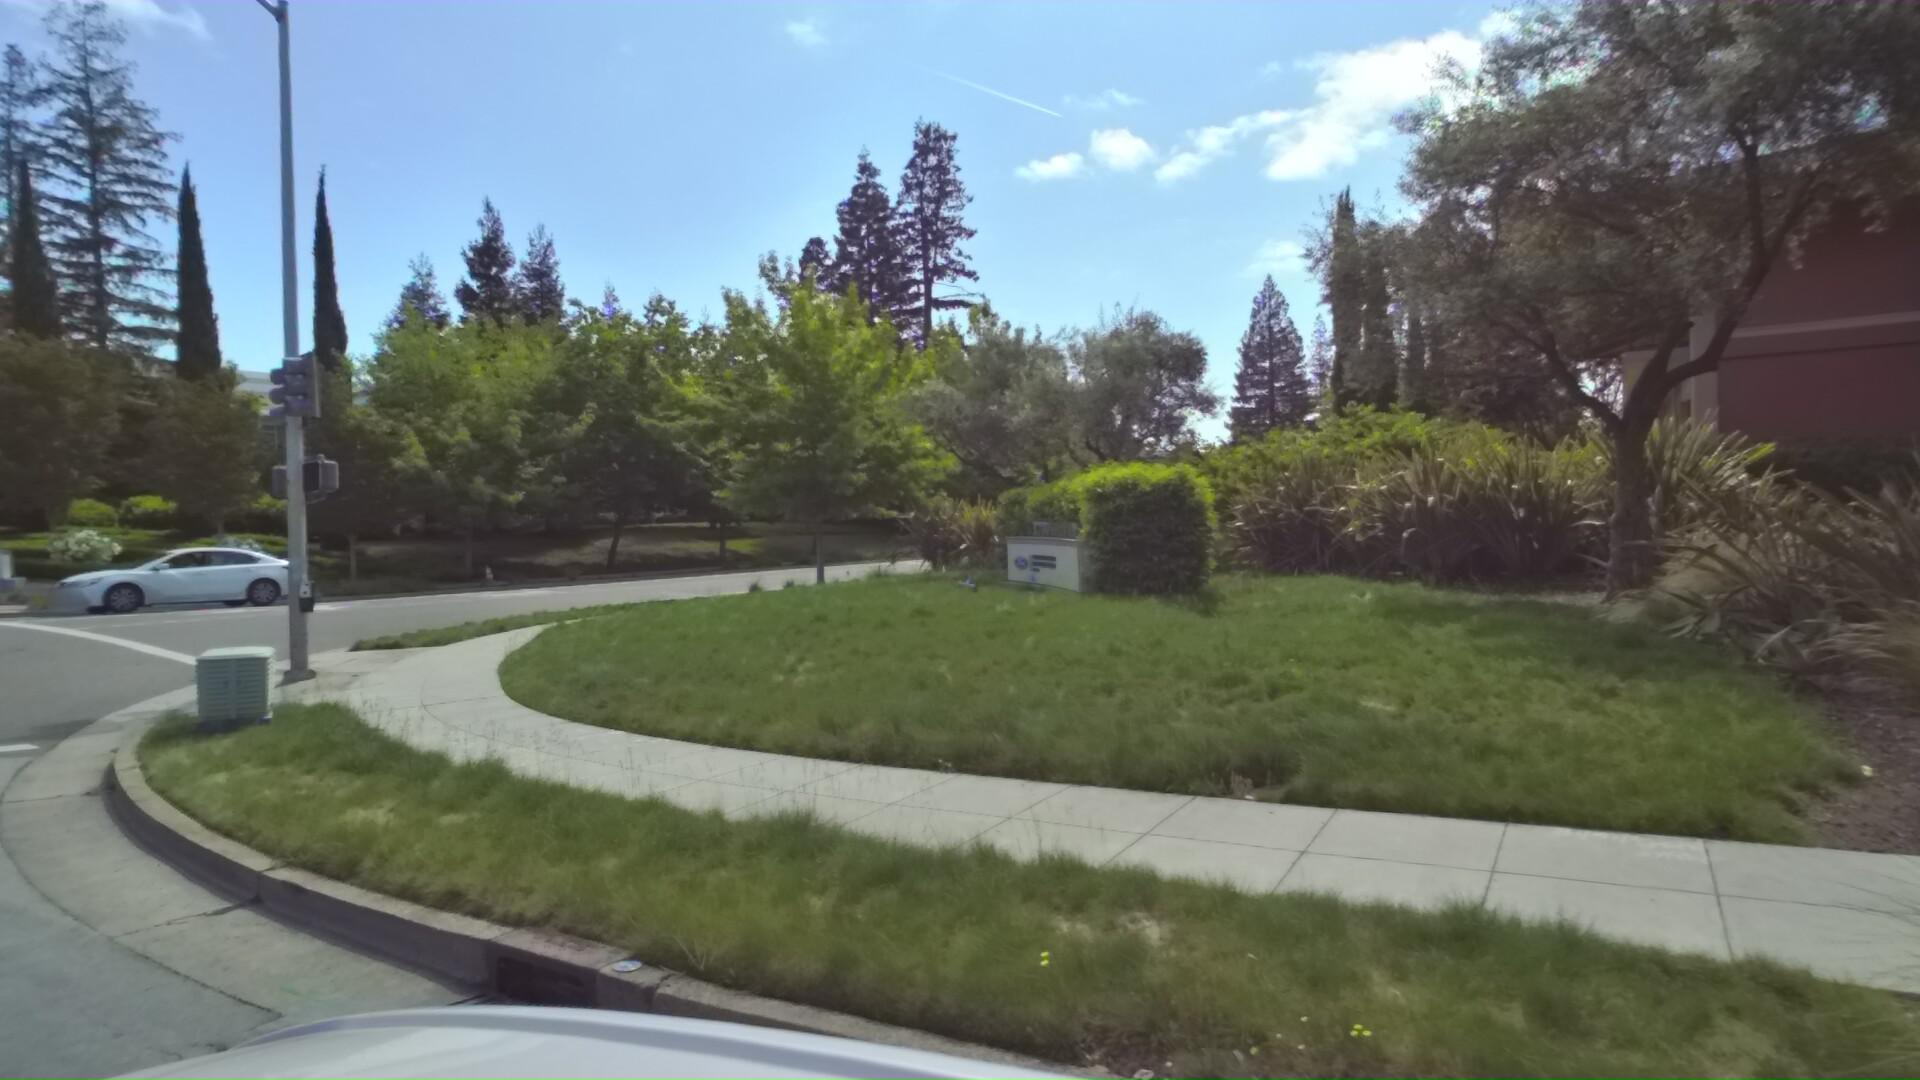car: (34, 533, 306, 617)
